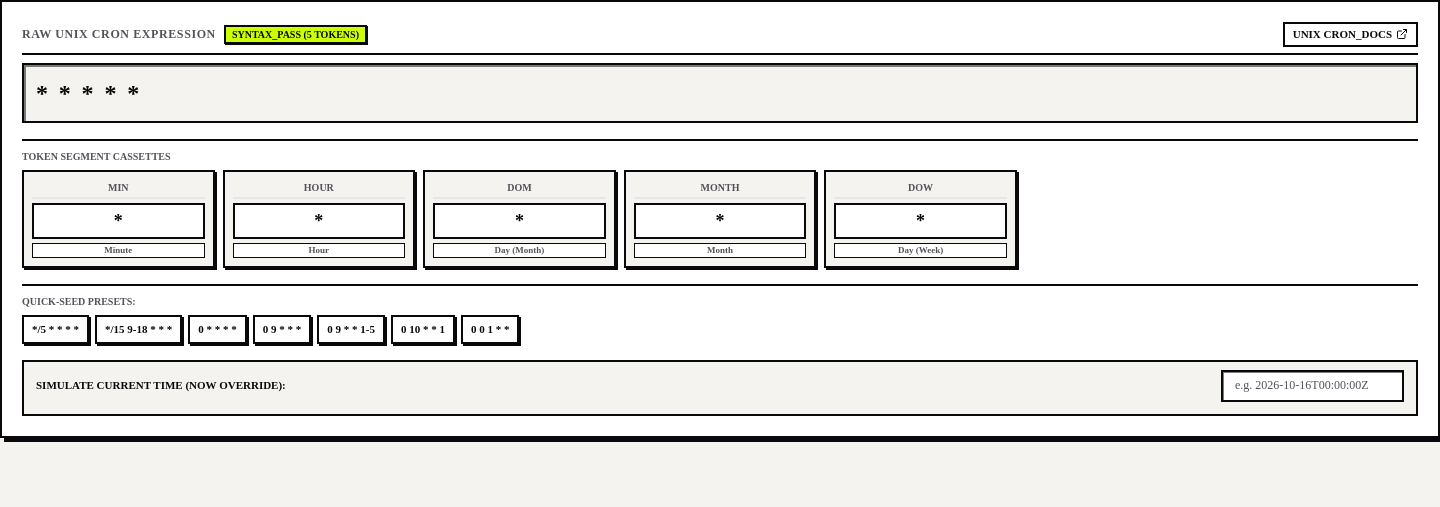
Test: Task 10: CronInput Component › typing 60 * * * * immediately shows error containing 0-59
This screenshot has width=1440, height=507.
Replace the text in the field with test id "cron-input" with "60 * * * *" at (720, 92), box [22,62,1418,122]
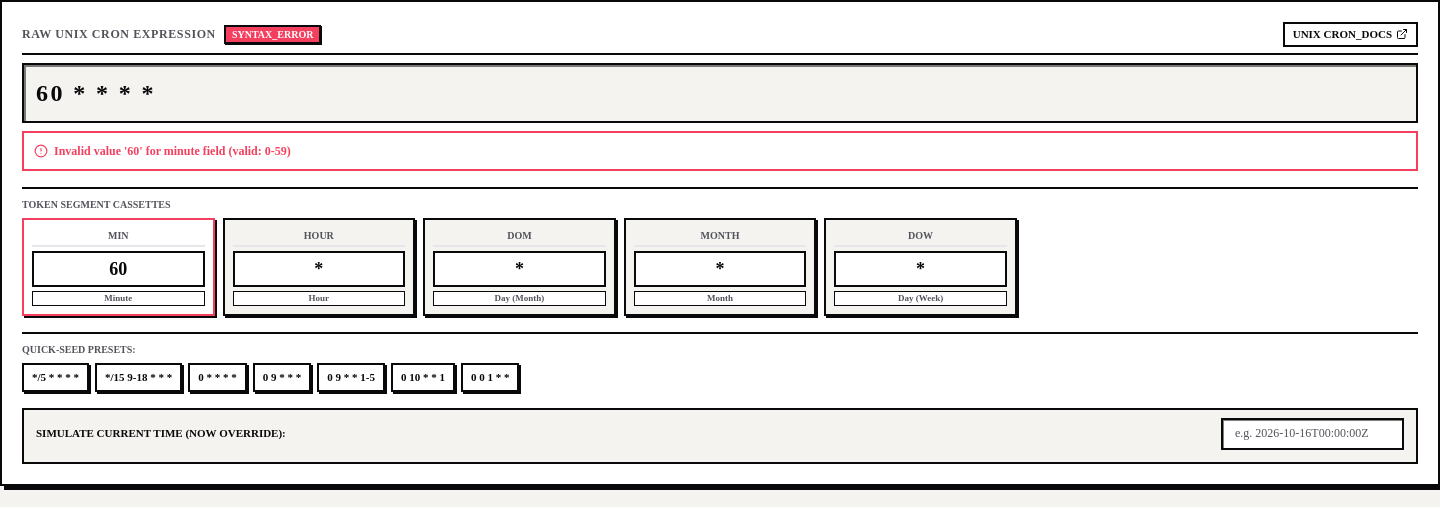
Check: the text "Invalid value '60' for minute field (valid: 0-59)" is shown, box [54,142,291,158]
